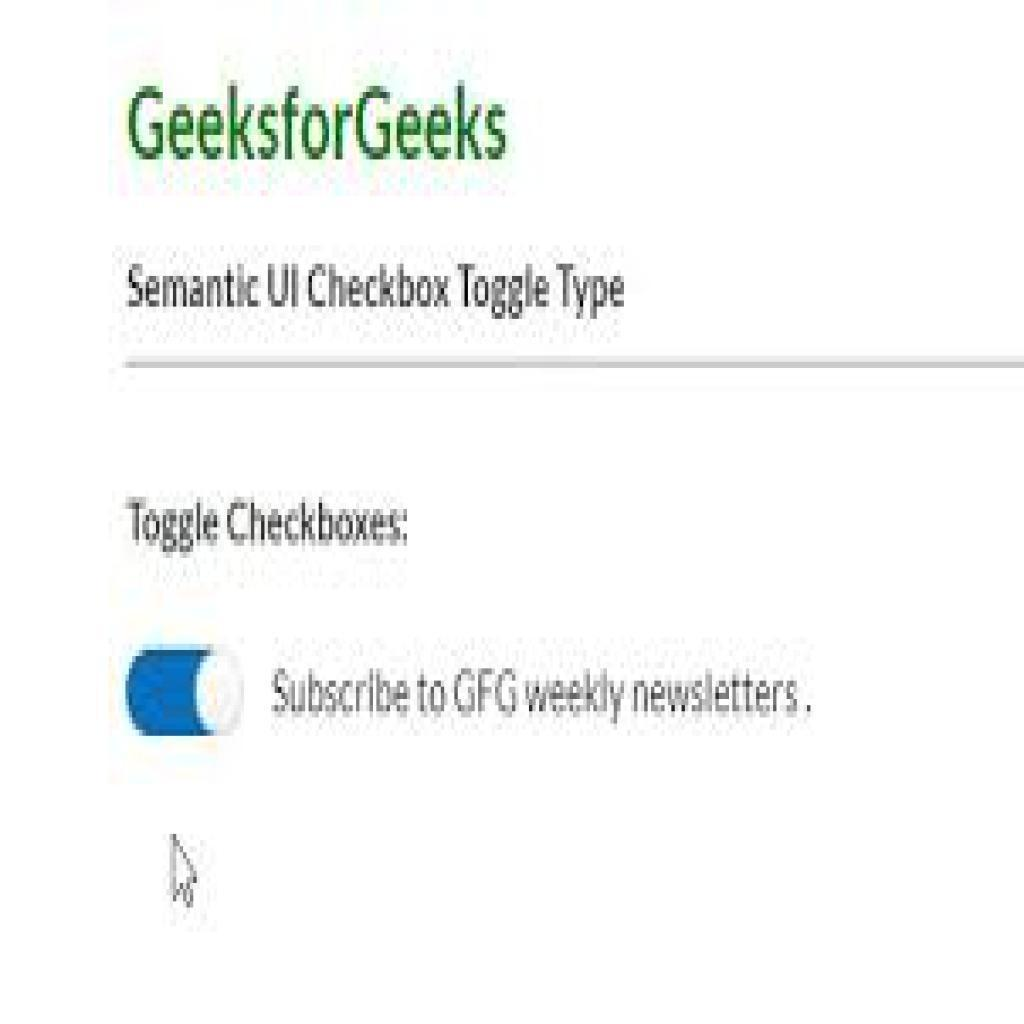label: (264, 665, 813, 724)
switch: (124, 649, 245, 737)
